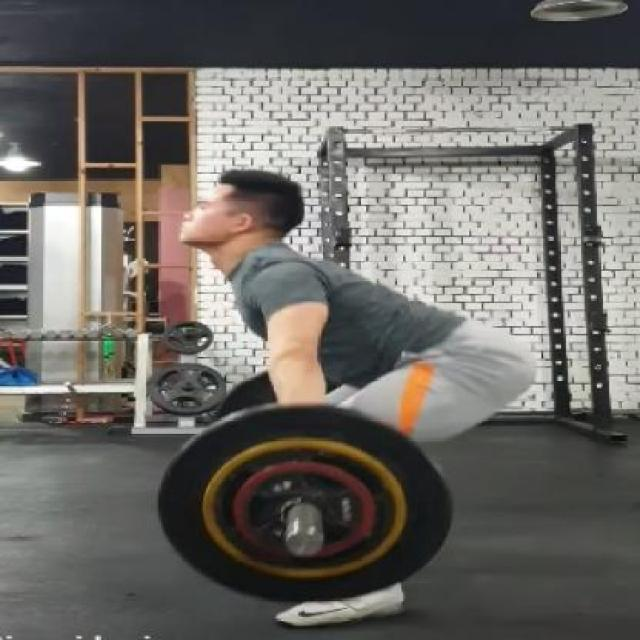barbell: (152, 399, 463, 605)
